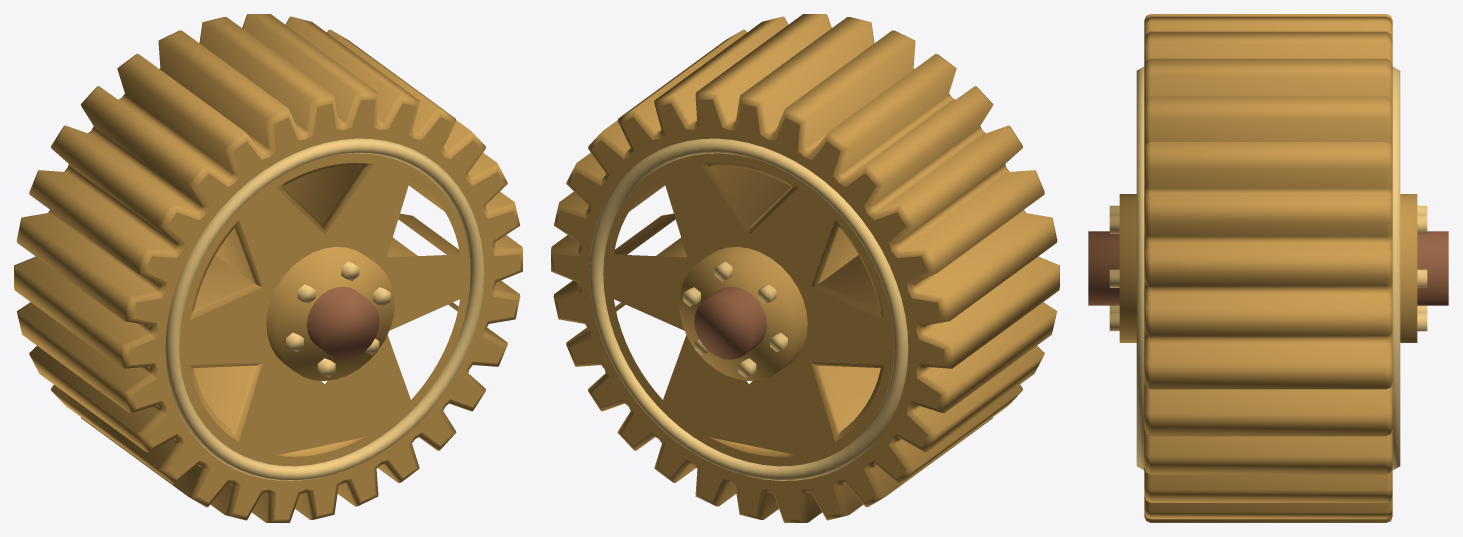
The model's file is gear-28.glb.
The picture shows the model from 3 angles, left to right: view 1: azimuth 30°, elevation 25°; view 2: azimuth 150°, elevation 25°; view 3: azimuth 270°, elevation 25°; orthographic projection. The views are drawn at different scales.
Visible parts, largest first — view 1: gear; view 2: gear; view 3: gear.
Boxes of the visible parts, box(x1,y1,x2,y2) form: gear: box(14, 14, 522, 522); gear: box(551, 14, 1059, 522); gear: box(1088, 14, 1448, 522).
Bounding box in the file's own units: 2.05 × 2.05 × 1.45.
